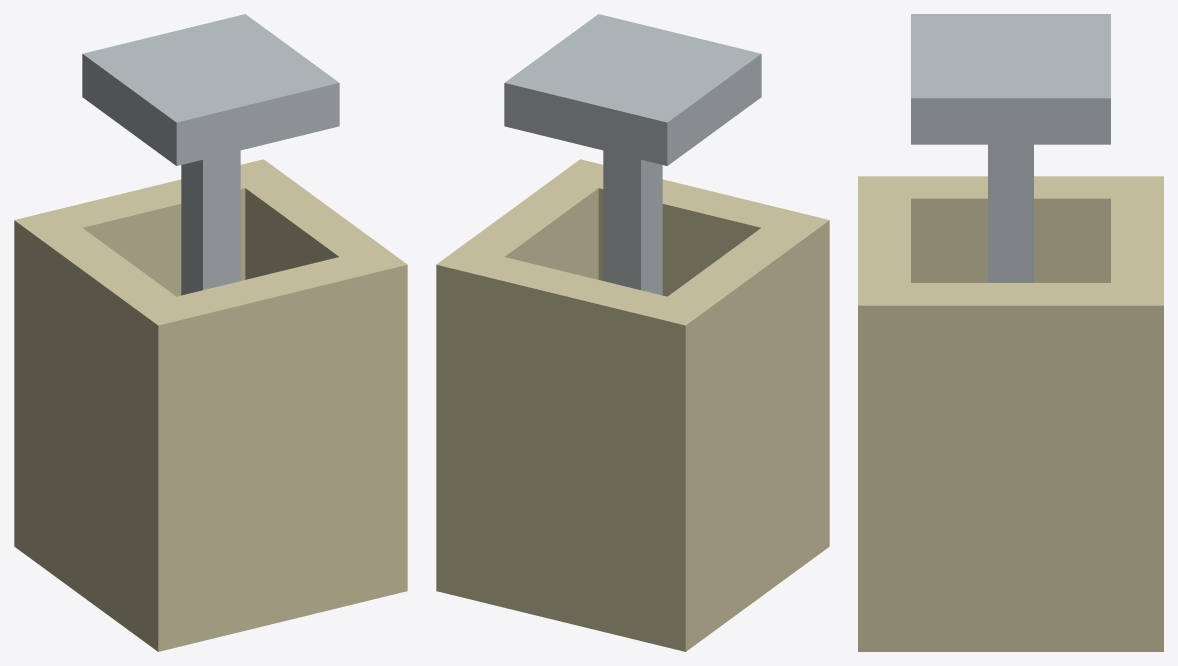
File: lampSquareCeiling.glb
The picture shows the model from 3 angles, left to right: view 1: azimuth 30°, elevation 25°; view 2: azimuth 150°, elevation 25°; view 3: azimuth 270°, elevation 25°; orthographic projection. The views are drawn at different scales.
Parts seen in each view (by area): view 1: lampSquareCeiling; view 2: lampSquareCeiling; view 3: lampSquareCeiling.
Part boxes in pixels (box(x1,y1,x2,y2)): lampSquareCeiling: box(14, 14, 407, 651); lampSquareCeiling: box(436, 14, 829, 651); lampSquareCeiling: box(858, 14, 1163, 651).
Size of the model in its own units: 0.12 by 0.23 by 0.12.
